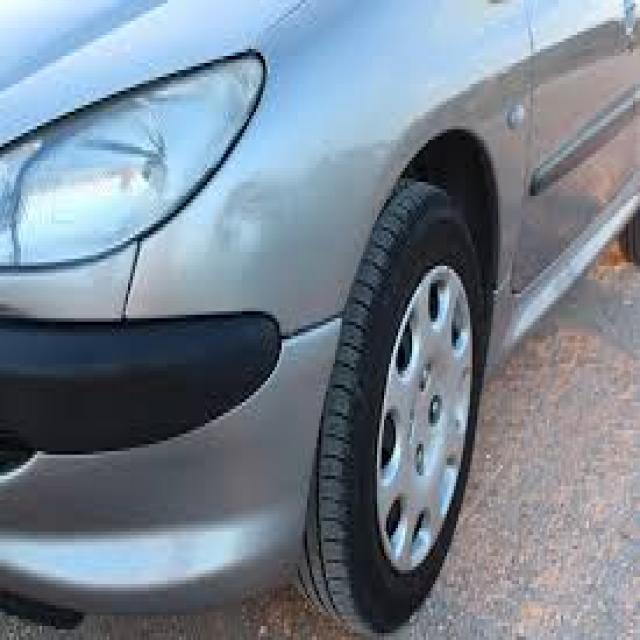minor: (30, 54, 196, 204)
